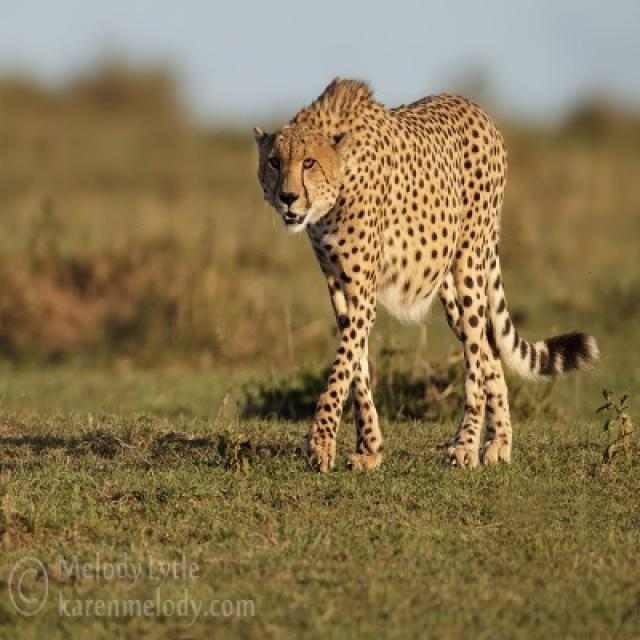Cheetah: (253, 80, 600, 475)
